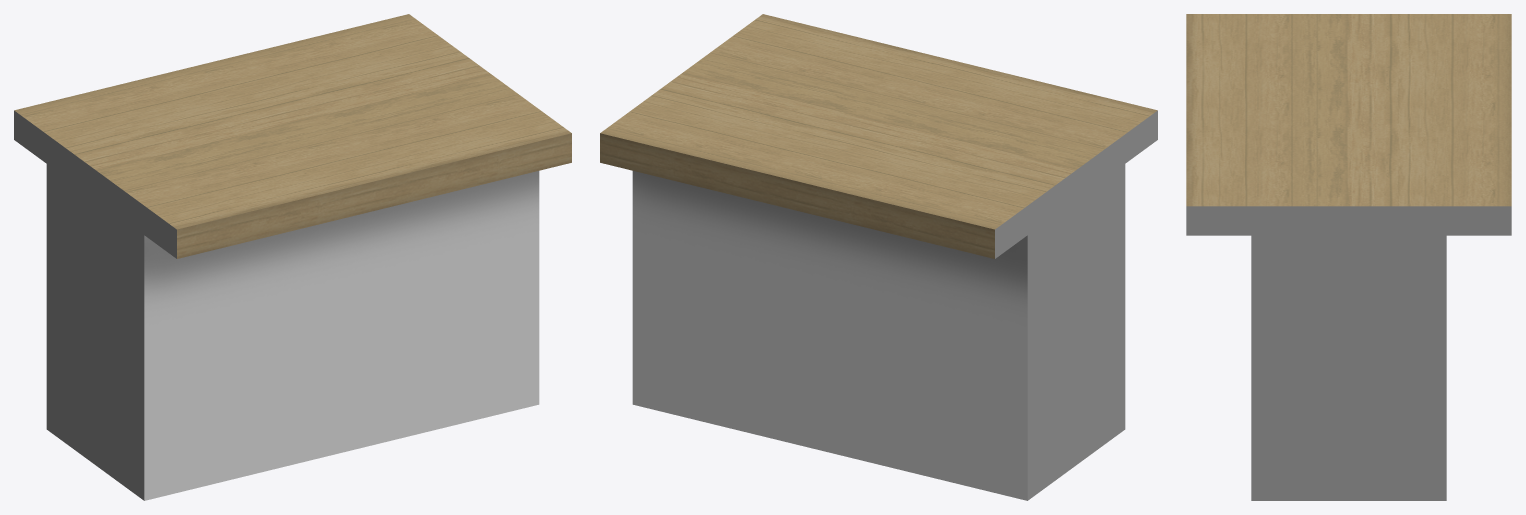
Rendered from SM_Table_Mid.fbx.
3 views of the same model, side by side, from view 1: azimuth 30°, elevation 25°; view 2: azimuth 150°, elevation 25°; view 3: azimuth 270°, elevation 25° (orthographic).
Visible parts, largest first — view 1: SM_Table_Mid; view 2: SM_Table_Mid; view 3: SM_Table_Mid.
Boxes of the visible parts, x1,y1,x2,y2 form: SM_Table_Mid: [14, 14, 571, 500]; SM_Table_Mid: [600, 14, 1157, 500]; SM_Table_Mid: [1186, 14, 1511, 500].
Bounding box in the file's own units: 70 × 50 × 50.
